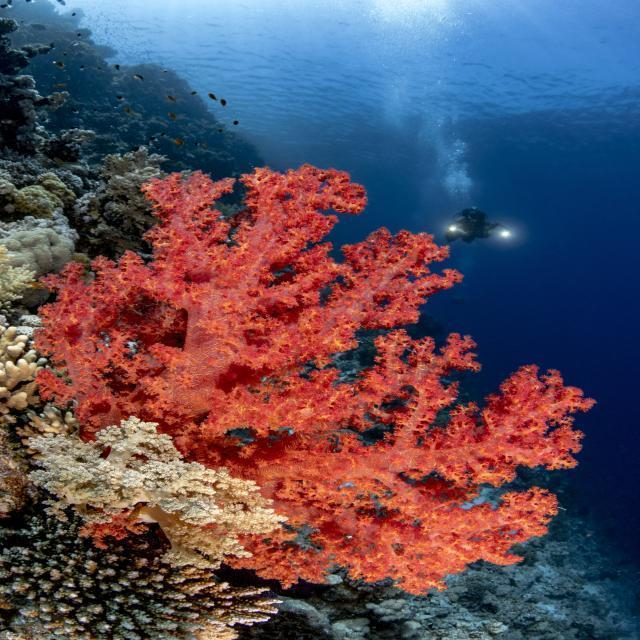Healthy Coral: (106, 181, 559, 592)
